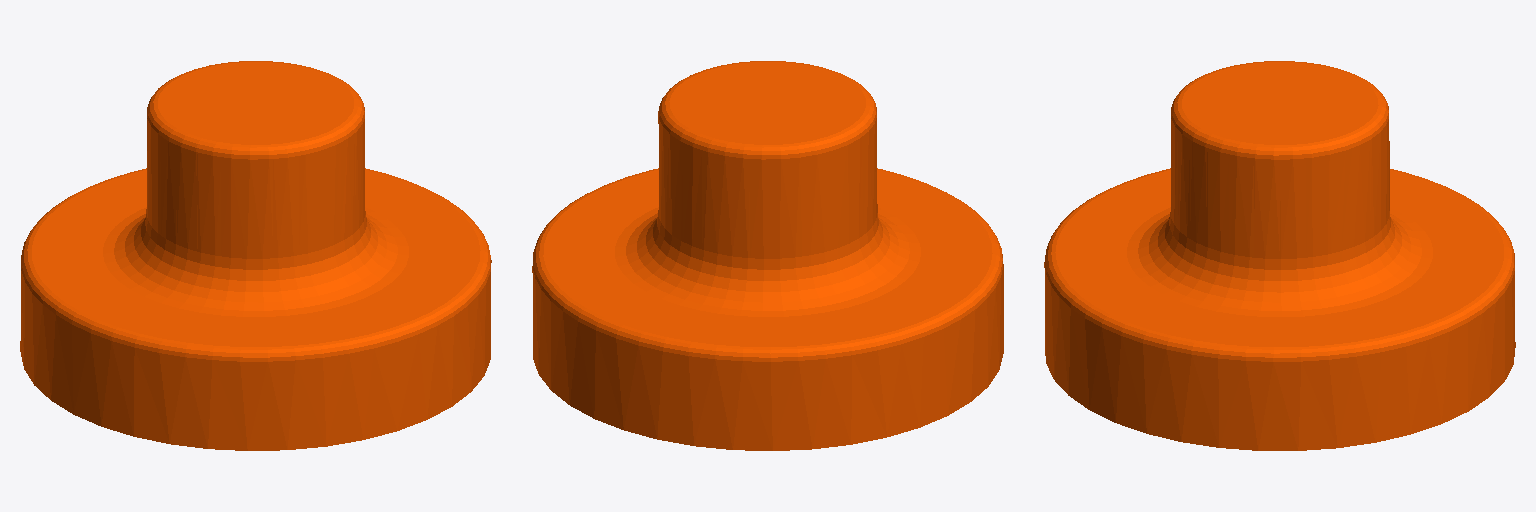
robot.urdf — downscale:
<!-- -*- mode: xml -*- -->

<robot name="downscale">
  <!-- Import Rviz colors -->
  <material name="Grey">
    <color rgba="0.2 0.2 0.2 1.0"/>
  </material>
  <material name="Orange">
    <color rgba="1.0 0.423529411765 0.0392156862745 1.0"/>
  </material>
  <material name="Blue">
    <color rgba="0.5 0.7 1.0 1.0"/> 
  </material>
  <material name="White">
    <color rgba="1.0 1.0 1.0 1.0"/>  
  </material>
  <material name="LightGrey">
    <color rgba="0.7 0.7 0.7 1.0"/>        
  </material>	

  <link
    name="base">
    <inertial>
      <origin
        xyz="2.2905721294153E-06 -1.61414290298367E-05 0.109058751369314"
        rpy="0 0 0" />
      <mass
        value="51.8879208121622" />
      <inertia
        ixx="0.107369583999488"
        ixy="3.45293516306737E-07"
        ixz="-1.7002845553287E-05"
        iyy="0.106711898425272"
        iyz="0.000112248488911704"
        izz="0.00463126223108742" />
    </inertial>
    <visual>
      <origin
        xyz="0 0 0"
        rpy="0 0 0" />
      <geometry>
        <mesh
          filename="package://meshes/base.STL" />
      </geometry>
      <material name="LightGrey"/>
    </visual>
    <collision>
      <origin
        xyz="0 0 0"
        rpy="0 0 0" />
      <geometry>
        <mesh
          filename="package://meshes/base.STL" />
      </geometry>
    </collision>
  </link>
  <link
    name="L1">
    <inertial>
      <origin
        xyz="-1.40503961643113E-06 0.0162520141256575 -0.0389516002710833"
        rpy="0 0 0" />
      <mass
        value="3.82018600703481" />
      <inertia
        ixx="0.0312186813390308"
        ixy="-8.25822321785251E-07"
        ixz="1.00573651071059E-06"
        iyy="0.0117066214028649"
        iyz="-0.00266196426941311"
        izz="0.0196261014510845" />
    </inertial>
    <visual>
      <origin
        xyz="0 0 0"
        rpy="0 0 0" />
      <geometry>
        <mesh
          filename="package://meshes/L1.STL" />
      </geometry>
      <material name="Orange"/>
    </visual>
    <collision>
      <origin
        xyz="0 0 0"
        rpy="0 0 0" />
      <geometry>
        <mesh
          filename="package://meshes/L1.STL" />
      </geometry>
    </collision>
  </link>
  <joint
    name="J1"
    type="revolute">
    <origin
      xyz="0 0 0.571000000000001"
      rpy="0 0 0" />
    <parent
      link="base" />
    <child
      link="L1" />
    <axis
      xyz="0 0 1" />
    <limit
      lower="-3.14159"
      upper="3.14159"
      effort="300"
      velocity="1" />
    <dynamics
      damping="0.5"
      friction="0.1" />
  </joint>
  <link
    name="L2">
    <inertial>
      <origin
        xyz="-6.78726905284366E-05 0.00193902497612969 0.206300822439238"
        rpy="0 0 0" />
      <mass
        value="2.90084024994969" />
      <inertia
        ixx="0.0577752595559213"
        ixy="-8.21630775582414E-08"
        ixz="3.80559781287884E-05"
        iyy="0.0451694272674874"
        iyz="0.0013266761278417"
        izz="0.0149066647182046" />
    </inertial>
    <visual>
      <origin
        xyz="0 0 0"
        rpy="0 0 0" />
      <geometry>
        <mesh
          filename="package://meshes/L2.STL" />
      </geometry>
      <material name="LightGrey"/>
    </visual>
    <collision>
      <origin
        xyz="0 0 0"
        rpy="0 0 0" />
      <geometry>
        <mesh
          filename="package://meshes/L2.STL" />
      </geometry>
    </collision>
  </link>
  <joint
    name="J2"
    type="revolute">
    <origin
      xyz="0 0 0"
      rpy="0 0 0" />
    <parent
      link="L1" />
    <child
      link="L2" />
    <axis
      xyz="0 -1 0" />
    <limit
      lower="-1.91986"
      upper="1.91986"
      effort="300"
      velocity="1" />
    <dynamics
      damping="0.5"
      friction="0.1" />
  </joint>
  <link
    name="L3">
    <inertial>
      <origin
        xyz="-5.6635250093362E-05 0.0200224096634917 -0.030685403640807"
        rpy="0 0 0" />
      <mass
        value="2.04242878532359" />
      <inertia
        ixx="0.0137939832039614"
        ixy="-8.30215189429191E-06"
        ixz="3.71834240965217E-06"
        iyy="0.00420302684340593"
        iyz="-0.00129387872307497"
        izz="0.00964293808737675" />
    </inertial>
    <visual>
      <origin
        xyz="0 0 0"
        rpy="0 0 0" />
      <geometry>
        <mesh
          filename="package://meshes/L3.STL" />
      </geometry>
      <material name="Orange"/>
    </visual>
    <collision>
      <origin
        xyz="0 0 0"
        rpy="0 0 0" />
      <geometry>
        <mesh
          filename="package://meshes/L3.STL" />
      </geometry>
    </collision>
  </link>
  <joint
    name="J3"
    type="revolute">
    <origin
      xyz="0 0 0.547"
      rpy="0 0 -7.35972077678528E-17" />
    <parent
      link="L2" />
    <child
      link="L3" />
    <axis
      xyz="0 0 1" />
    <limit
      lower="-3.14159"
      upper="3.14159"
      effort="300"
      velocity="1" />
    <dynamics
      damping="0.5"
      friction="0.1" />
  </joint>
  <link
    name="L4">
    <inertial>
      <origin
        xyz="6.16640638659849E-05 0.00191795288527713 0.189508428978352"
        rpy="0 0 0" />
      <mass
        value="1.77641972949222" />
      <inertia
        ixx="0.0258869277460313"
        ixy="1.30675841754291E-06"
        ixz="-2.8529879165025E-06"
        iyy="0.0200868822533137"
        iyz="0.00084127373482839"
        izz="0.00668727677083832" />
    </inertial>
    <visual>
      <origin
        xyz="0 0 0"
        rpy="0 0 0" />
      <geometry>
        <mesh
          filename="package://meshes/L4.STL" />
      </geometry>
      <material name="LightGrey"/>
    </visual>
    <collision>
      <origin
        xyz="0 0 0"
        rpy="0 0 0" />
      <geometry>
        <mesh
          filename="package://meshes/L4.STL" />
      </geometry>
    </collision>
  </link>
  <joint
    name="J4"
    type="revolute">
    <origin
      xyz="0 0 0"
      rpy="0 0 0" />
    <parent
      link="L3" />
    <child
      link="L4" />
    <axis
      xyz="0 -1 0" />
    <limit
      lower="-2.61799"
      upper="2.61799"
      effort="300"
      velocity="1" />
    <dynamics
      damping="0.5"
      friction="0.1" />
  </joint>
  <link
    name="L5">
    <inertial>
      <origin
        xyz="-0.000102265913206057 0.0035794784269399 -0.024596073255345"
        rpy="0 0 0" />
      <mass
        value="1.16222465310862" />
      <inertia
        ixx="0.00473693858341341"
        ixy="-5.40342574980917E-06"
        ixz="2.57585847244667E-06"
        iyy="0.00147340832139742"
        iyz="-0.000122624552624032"
        izz="0.00327727690561438" />
    </inertial>
    <visual>
      <origin
        xyz="0 0 0"
        rpy="0 0 0" />
      <geometry>
        <mesh
          filename="package://meshes/L5.STL" />
      </geometry>
      <material name="Orange"/>
    </visual>
    <collision>
      <origin
        xyz="0 0 0"
        rpy="0 0 0" />
      <geometry>
        <mesh
          filename="package://meshes/L5.STL" />
      </geometry>
    </collision>
  </link>
  <joint
    name="J5"
    type="revolute">
    <origin
      xyz="0 0 0.483999999999999"
      rpy="0 0 -1.08089488645768E-16" />
    <parent
      link="L4" />
    <child
      link="L5" />
    <axis
      xyz="0 0 1" />
    <limit
      lower="-3.14159"
      upper="3.14159"
      effort="300"
      velocity="1" />
    <dynamics
      damping="0.1"
      friction="0.1" />
  </joint>
  <link
    name="L6">
    <inertial>
      <origin
        xyz="5.86989553775785E-05 0.00199818879522046 0.140833738111627"
        rpy="0 0 0" />
      <mass
        value="1.11995233933703" />
      <inertia
        ixx="0.00736730167051378"
        ixy="6.51011014885253E-07"
        ixz="-1.24797146947973E-06"
        iyy="0.00540698480228368"
        iyz="0.000419112532779327"
        izz="0.00250484335129939" />
    </inertial>
    <visual>
      <origin
        xyz="0 0 0"
        rpy="0 0 0" />
      <geometry>
        <mesh
          filename="package://meshes/L6.STL" />
      </geometry>
      <material name="LightGrey"/>
    </visual>
    <collision>
      <origin
        xyz="0 0 0"
        rpy="0 0 0" />
      <geometry>
        <mesh
          filename="package://meshes/L6.STL" />
      </geometry>
    </collision>
  </link>
  <joint
    name="J6"
    type="revolute">
    <origin
      xyz="0 0 0"
      rpy="0 0 0" />
    <parent
      link="L5" />
    <child
      link="L6" />
    <axis
      xyz="0 -1 0" />
    <limit
      lower="-1.91986"
      upper="1.91986"
      effort="300"
      velocity="1" />
    <dynamics
      damping="0.5"
      friction="0.1" />
  </joint>
  <link
    name="L7">
    <inertial>
      <origin
        xyz="0 0 -0.0338350321131573"
        rpy="0 0 0" />
      <mass
        value="0.15542037197972" />
      <inertia
        ixx="0"
        ixy="0"
        ixz="0"
        iyy="0"
        iyz="0"
        izz="0" />
    </inertial>
    <visual>
      <origin
        xyz="0 0 0"
        rpy="0 0 0" />
      <geometry>
        <mesh
          filename="package://meshes/L7.STL" />
      </geometry>
      <material name="Orange"/>
    </visual>
    <collision>
      <origin
        xyz="0 0 0"
        rpy="0 0 0" />
      <geometry>
        <mesh
          filename="package://meshes/L7.STL" />
      </geometry>
    </collision>
  </link>
  <joint
    name="J7"
    type="revolute">
    <origin
      xyz="0 0 0.3145"
      rpy="0 0 0" />
    <parent
      link="L6" />
    <child
      link="L7" />
    <axis
      xyz="0 0 1" />
    <limit
      lower="-3.14159"
      upper="3.14159"
      effort="300"
      velocity="1" />
    <dynamics
      damping="0.5"
      friction="0.1" />
  </joint>
</robot>

--- Facts derived from the render (not from the file) ---
Views: 3 orthographic renders of the robot side by side, from view 1: azimuth 30°, elevation 25°; view 2: azimuth 150°, elevation 25°; view 3: azimuth 270°, elevation 25°.
Model downscale with 8 links and 7 joints (7 revolute), rooted at base, posed all joints at 0.
Links seen in each view (by area): view 1: L7; view 2: L7; view 3: L7.
Link boxes in pixels (x1=…): L7: x1=20, y1=61, x2=491, y2=450; L7: x1=532, y1=61, x2=1003, y2=450; L7: x1=1044, y1=61, x2=1515, y2=450.
Bounding box of the posed robot: 0.086 × 0.086 × 0.05 m (x, y, z).
1 mesh visuals loaded from 8 distinct referenced files (1 binary STL); not drawn: 7 (reference not matched to a file when rendering).